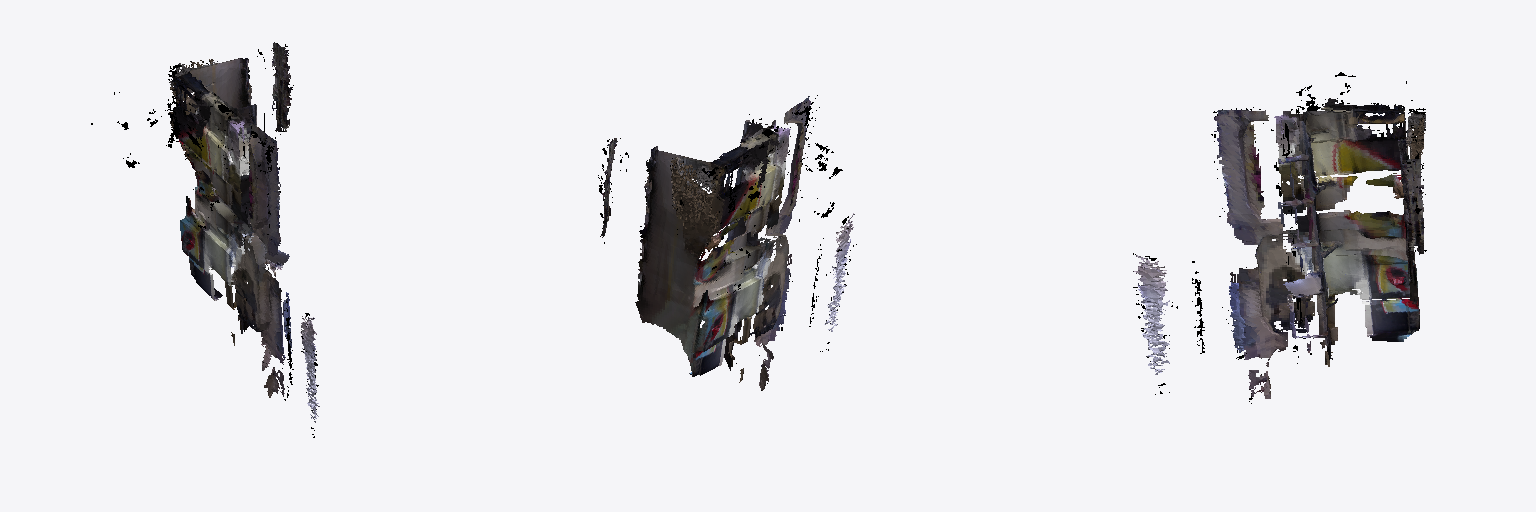
3 views of the same model, side by side, from view 1: azimuth 30°, elevation 25°; view 2: azimuth 150°, elevation 25°; view 3: azimuth 270°, elevation 25° (orthographic).
Size of the model in its own units: 9.05 by 11.87 by 11.19.
Materials: 1 (1 with a texture image).